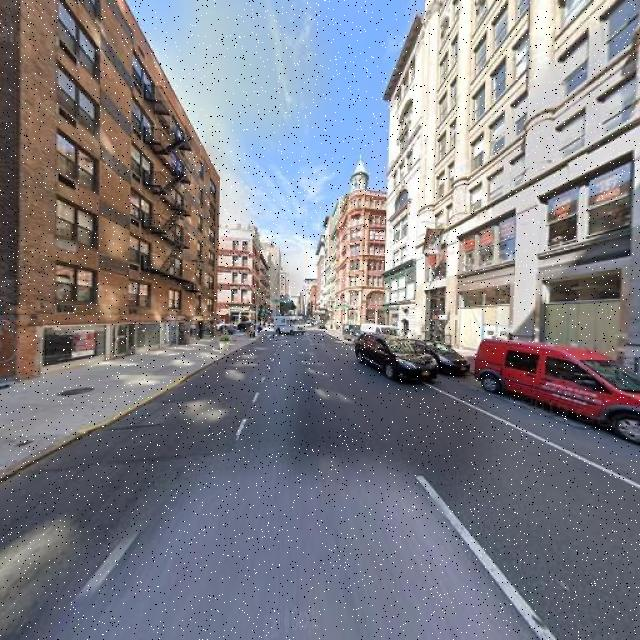Building: (422, 1, 640, 385), (25, 1, 217, 375), (387, 22, 419, 344)
